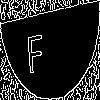F: (25, 25, 45, 75)
